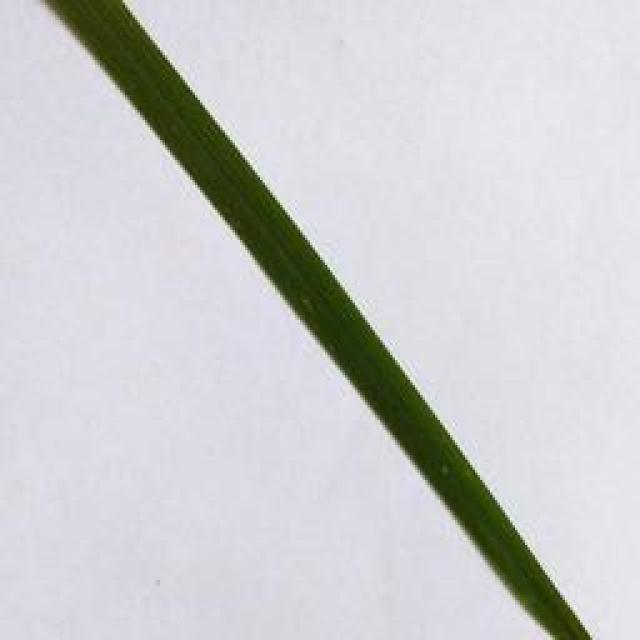Healthy-Plant: (50, 0, 582, 640)
